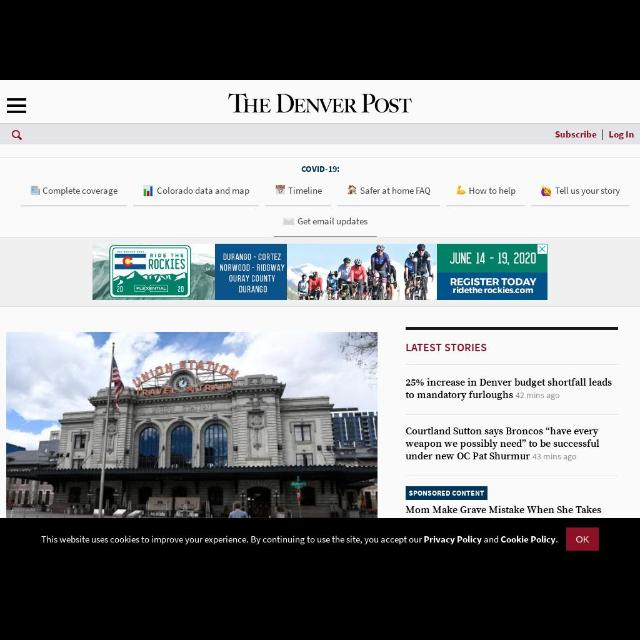icon: (7, 98, 27, 114), (12, 130, 22, 142)
iframe: (1, 518, 639, 560), (92, 243, 548, 300)
image: (6, 332, 378, 518), (540, 185, 552, 198), (142, 185, 154, 197), (30, 185, 42, 195), (276, 184, 286, 196), (283, 217, 295, 226), (347, 185, 357, 195), (456, 185, 466, 195)
panel: (1, 307, 639, 517), (1, 145, 639, 237)
text: (406, 427, 600, 461), (40, 535, 558, 545), (406, 378, 612, 400), (228, 93, 412, 113), (406, 506, 602, 514), (157, 188, 249, 196), (555, 187, 621, 197), (406, 344, 486, 352), (361, 187, 432, 196), (42, 188, 118, 196), (298, 218, 368, 226), (410, 490, 484, 496), (468, 188, 516, 196), (288, 187, 322, 195), (301, 165, 339, 172), (555, 132, 597, 138), (610, 132, 634, 140), (576, 536, 590, 544)
textbutton: (406, 486, 488, 500), (566, 527, 600, 551)
